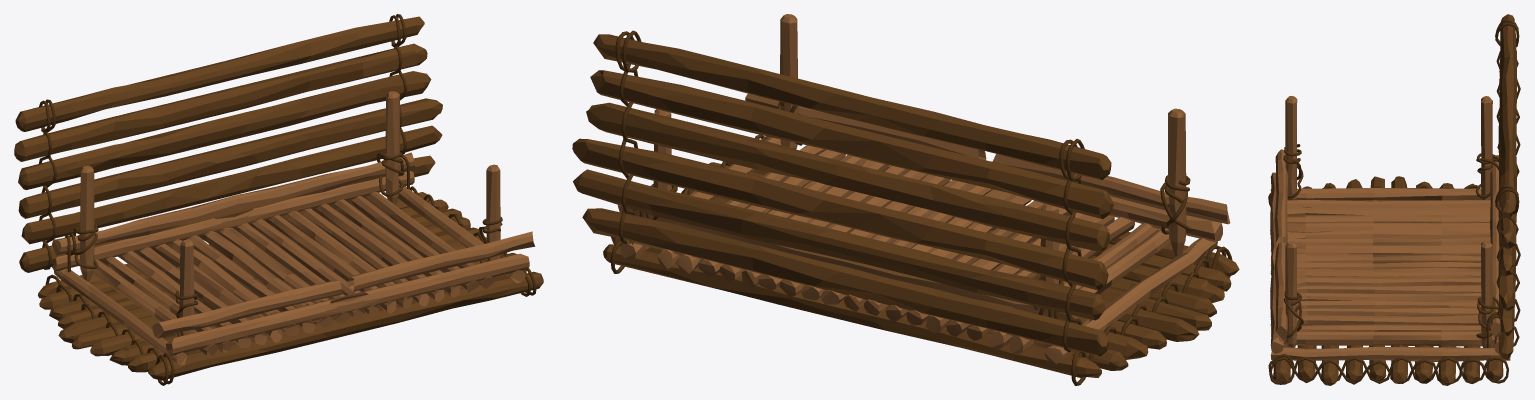
File: raft_couch.fbx
The picture shows the model from 3 angles, left to right: view 1: azimuth 30°, elevation 25°; view 2: azimuth 150°, elevation 25°; view 3: azimuth 270°, elevation 25°; orthographic projection. The views are drawn at different scales.
Parts seen in each view (by area): view 1: üst.001, alt.002, alt.001, ip.002, ip.001, ip.008, ip.007; view 2: alt.002, üst.001, alt.001, ip.002, ip.007, ip.008, ip.001; view 3: üst.001, alt.002, alt.001, ip.001, ip.002, ip.007, ip.008.
Part boxes in pixels (box(x1,y1,x2,y2)): üst.001: box(52, 91, 535, 365); alt.002: box(14, 16, 442, 272); alt.001: box(38, 192, 543, 380); ip.002: box(45, 223, 198, 385); ip.001: box(376, 152, 536, 296); ip.008: box(39, 99, 57, 269); ip.007: box(389, 14, 407, 154); alt.002: box(572, 34, 1113, 356); üst.001: box(617, 14, 1230, 364); alt.001: box(603, 162, 1239, 378); ip.002: box(1034, 175, 1232, 385); ip.007: box(615, 30, 641, 244); ip.008: box(1059, 139, 1084, 353); ip.001: box(610, 101, 802, 273); üst.001: box(1270, 96, 1510, 361); alt.002: box(1498, 14, 1516, 359); alt.001: box(1273, 176, 1503, 385); ip.001: box(1268, 291, 1508, 384); ip.002: box(1268, 144, 1498, 206); ip.007: box(1495, 184, 1520, 346); ip.008: box(1495, 19, 1520, 176).
Size of the model in its own units: 631 by 274 by 324.
